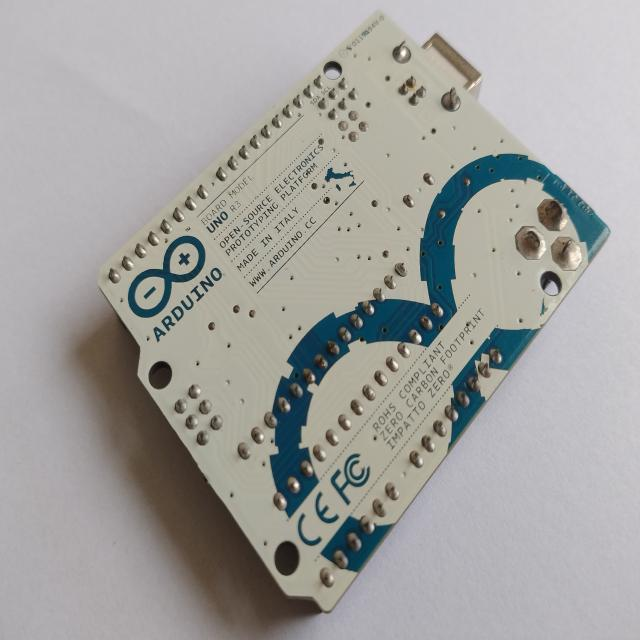arduino: (99, 14, 615, 616)
